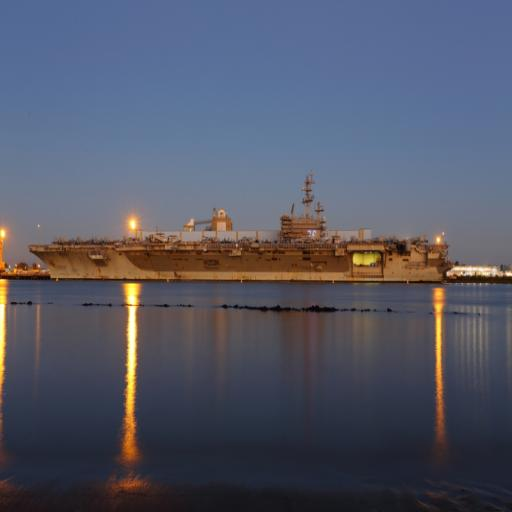Portanaves: (28, 166, 456, 286)
